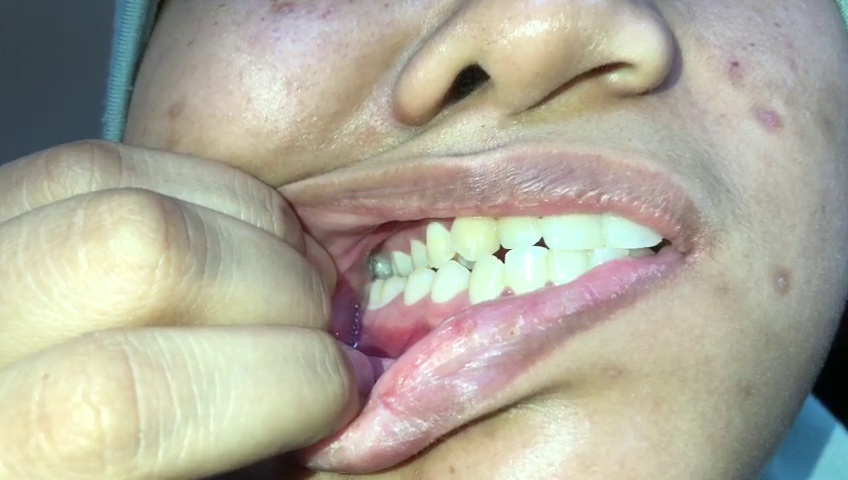1st Molar: (381, 276, 409, 309), (392, 246, 409, 276)
1st Premolar: (432, 260, 470, 303), (426, 222, 456, 268)
2nd Molar: (369, 251, 393, 280), (366, 275, 384, 311)
2nd Premolar: (405, 265, 434, 309), (410, 237, 430, 271)
Canine: (450, 210, 499, 262), (470, 254, 507, 304)
Lateral Incisor: (505, 248, 547, 296)
